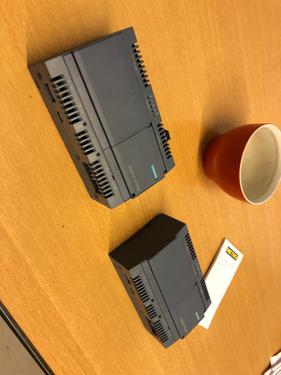device: (27, 26, 175, 209), (107, 212, 211, 349)
